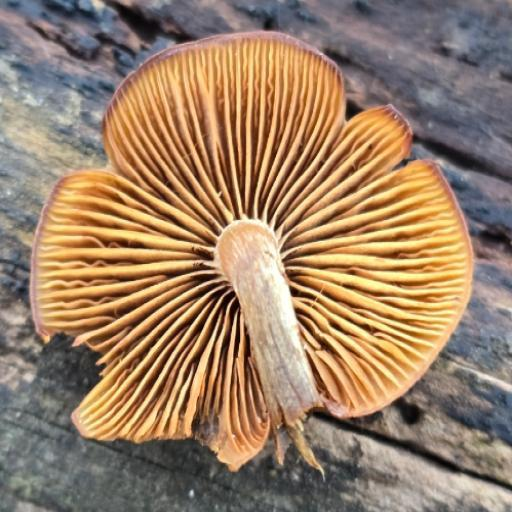mushroom: (29, 29, 476, 481)
